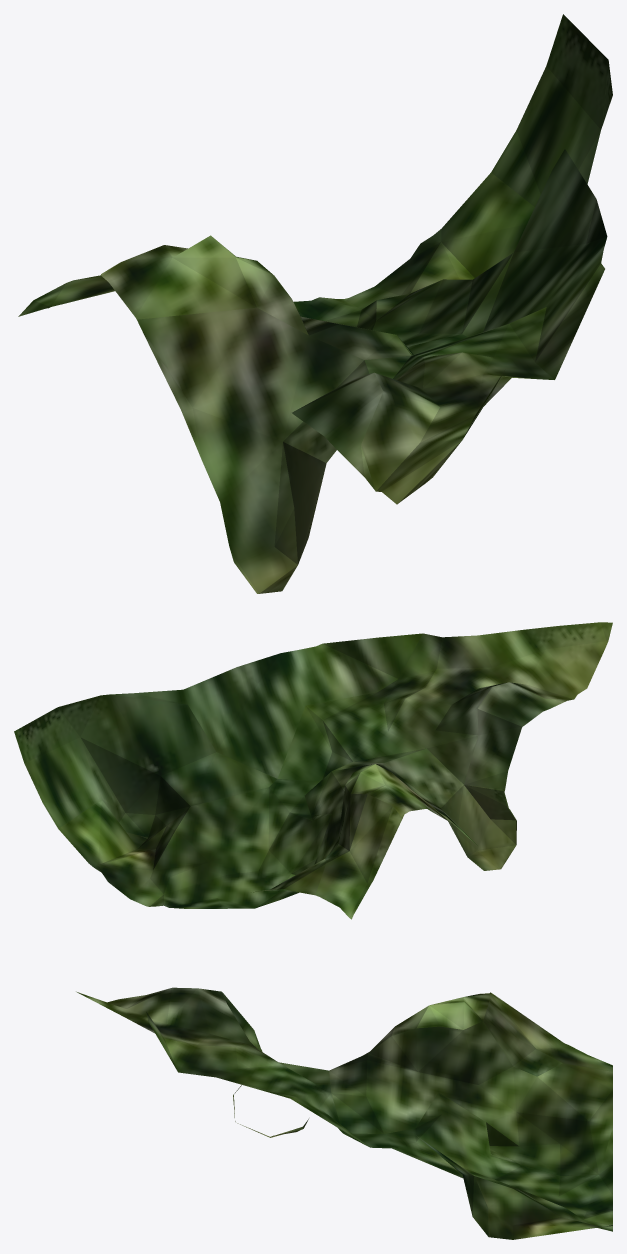
The picture shows the model from 3 angles, top to bottom: view 1: azimuth 30°, elevation 25°; view 2: azimuth 150°, elevation 25°; view 3: azimuth 270°, elevation 25°; orthographic projection. The views are drawn at different scales.
Bounding box in the file's own units: 0.7942 × 0.3712 × 1.06.
1 material, 1 textured.
